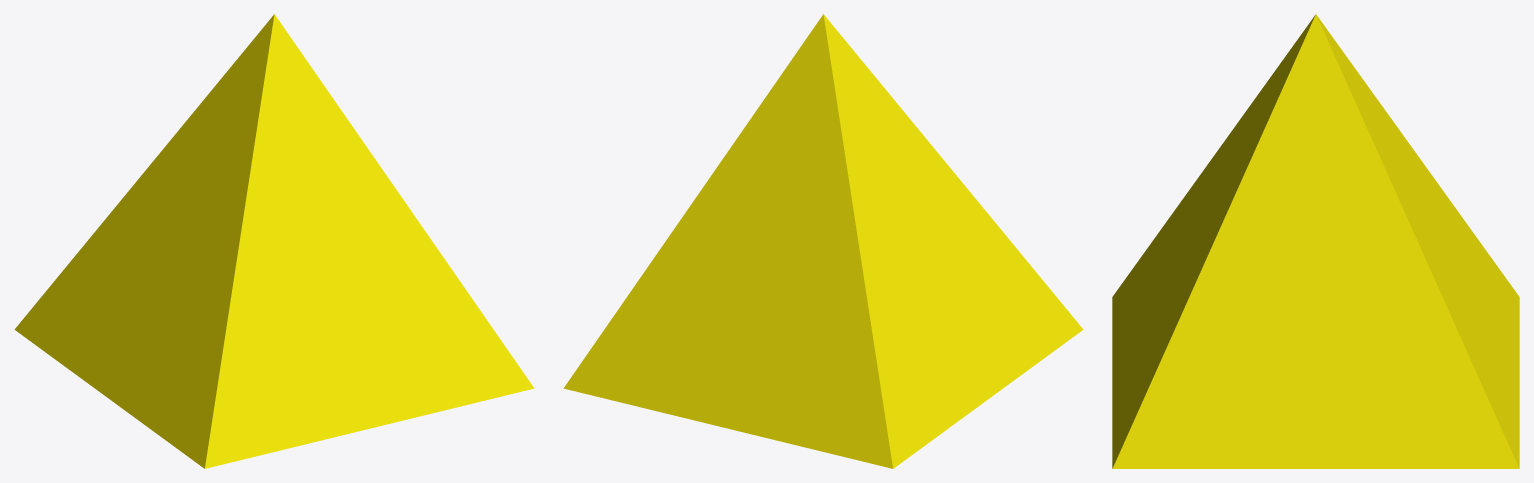
Rendered from pira.fbx.
The picture shows the model from 3 angles, left to right: view 1: azimuth 30°, elevation 25°; view 2: azimuth 150°, elevation 25°; view 3: azimuth 270°, elevation 25°; orthographic projection. The views are drawn at different scales.
Visible parts, largest first — view 1: Pyramid001; view 2: Pyramid001; view 3: Pyramid001.
Part boxes in pixels (box(x1,y1,x2,y2)): Pyramid001: box(14, 14, 534, 468); Pyramid001: box(563, 14, 1083, 468); Pyramid001: box(1112, 14, 1519, 468).
Size of the model in its own units: 55 by 55 by 55.
